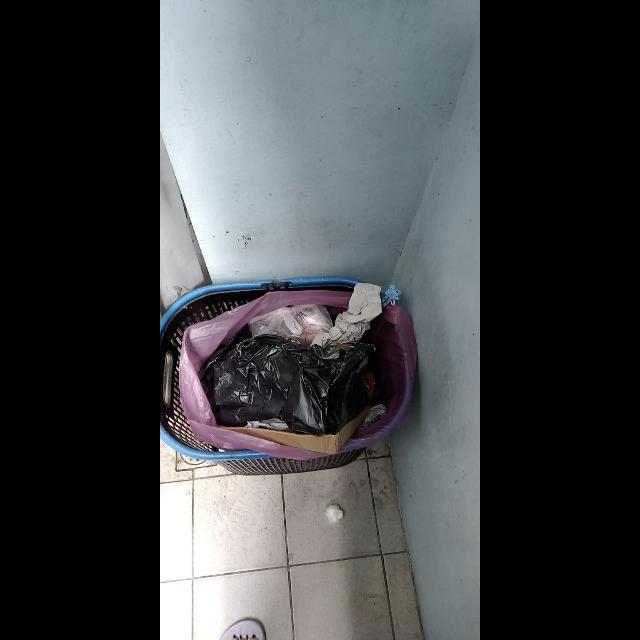cardboard: (219, 405, 372, 454)
paper: (310, 283, 382, 351)
plastic_bag: (204, 335, 375, 436), (249, 304, 333, 347)
